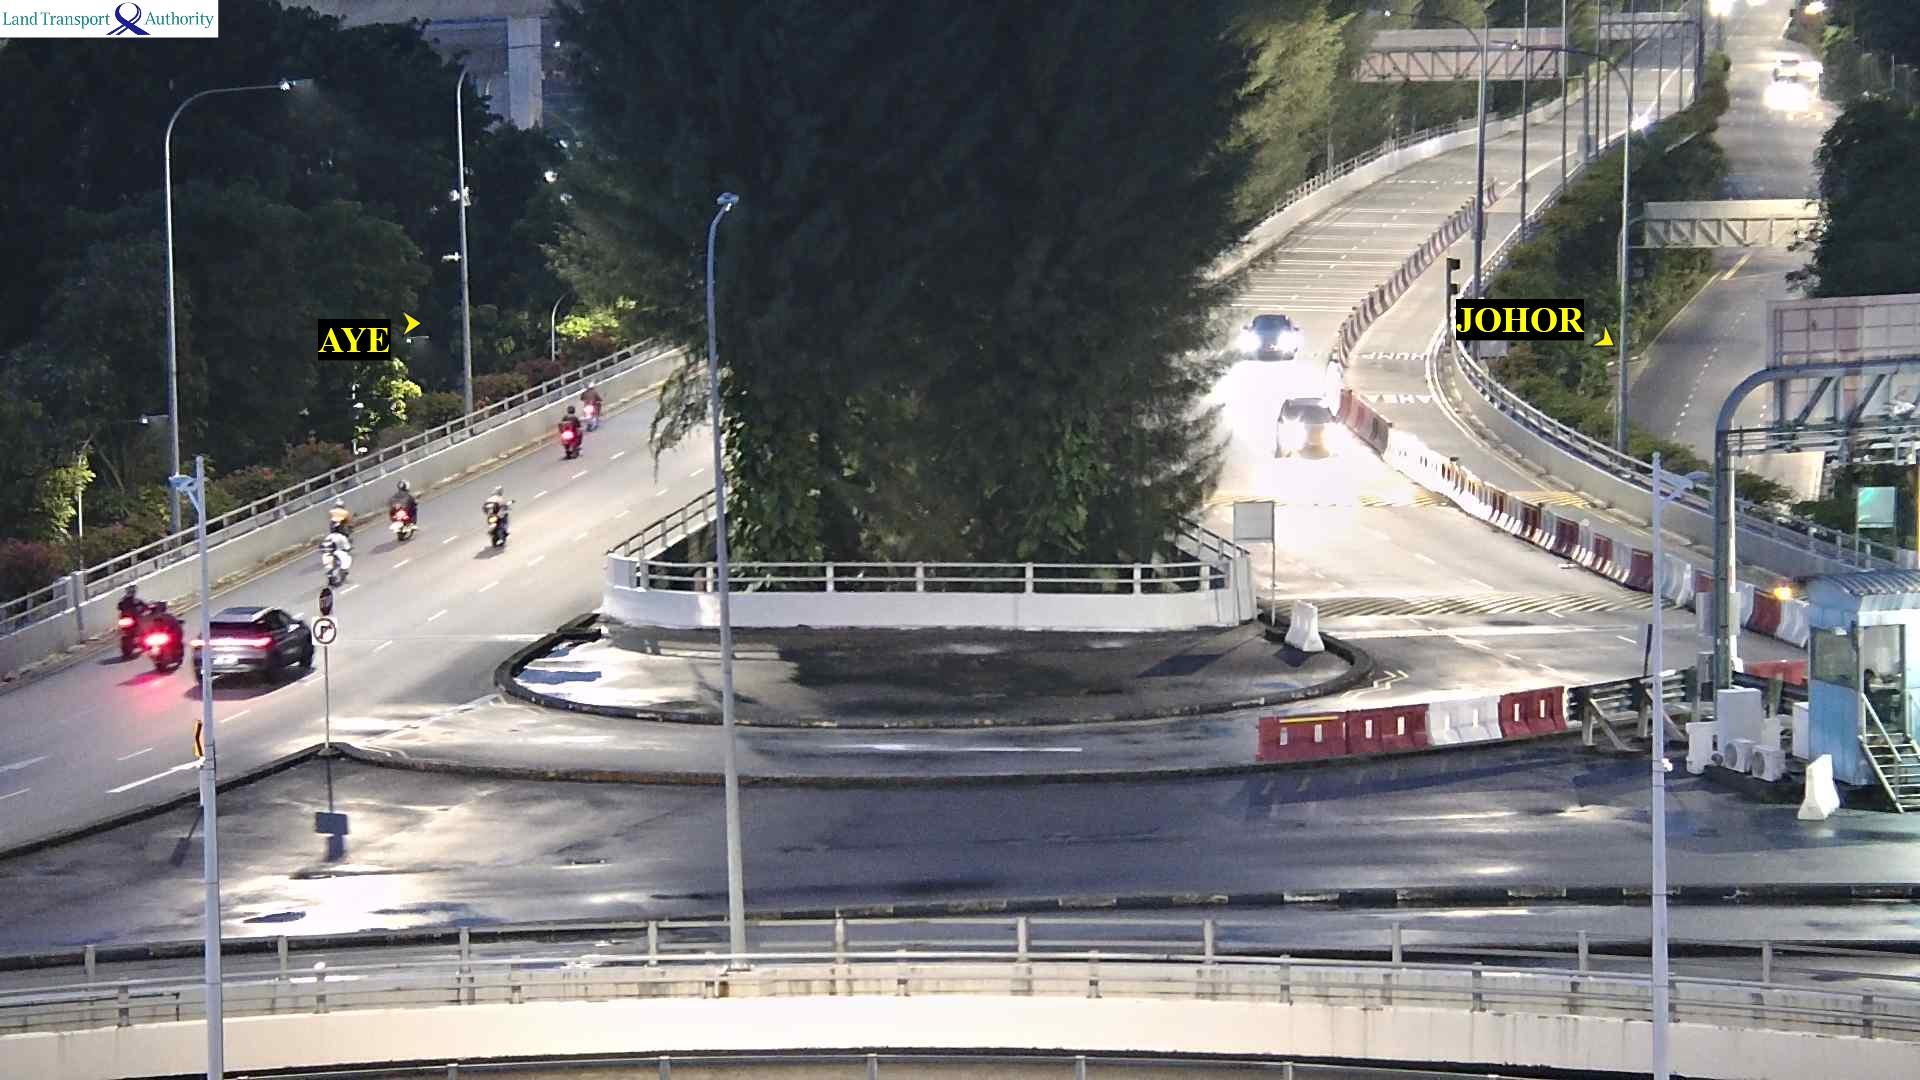vehicle-secondlink-johor: (1278, 397, 1344, 459), (1243, 313, 1299, 354)
vehicle-secondlink-singapore: (187, 602, 311, 683), (485, 487, 517, 555), (150, 590, 177, 670), (115, 583, 141, 646), (400, 486, 427, 528), (557, 414, 583, 457), (328, 506, 354, 537)
